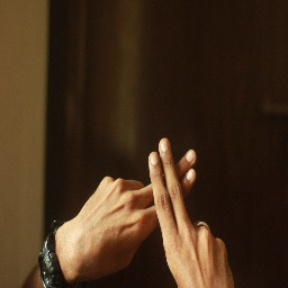F: (132, 132, 210, 251)
